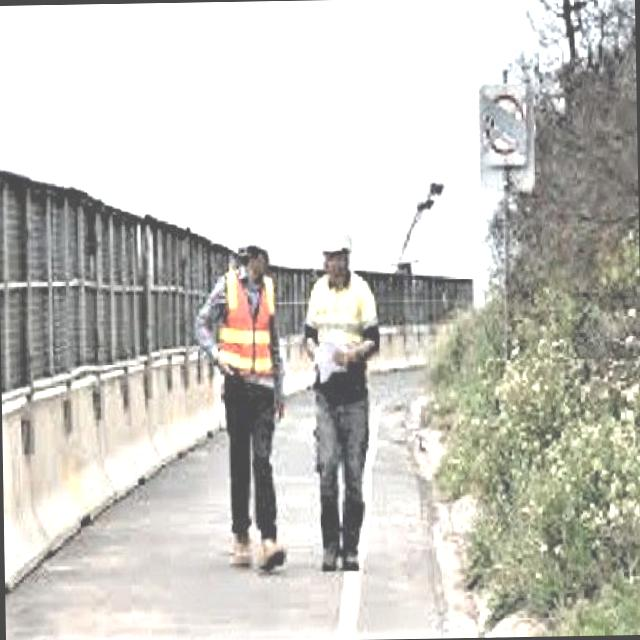Person: (190, 226, 288, 579), (296, 218, 388, 576)
